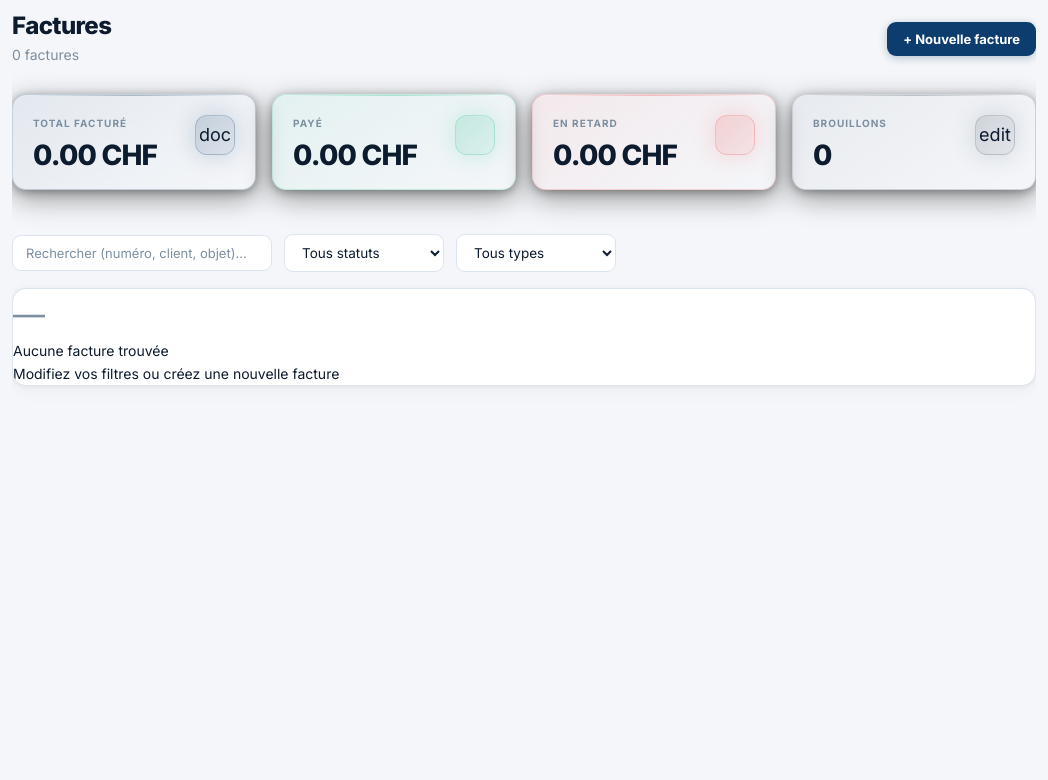
Test: Factures — formulaire : ouverture › bouton "← Annuler" revient à la liste
This screenshot has width=1048, height=780.
Step 1. Click the button "+ Nouvelle facture" → (962, 39), box left=887, top=22, right=1036, bottom=56
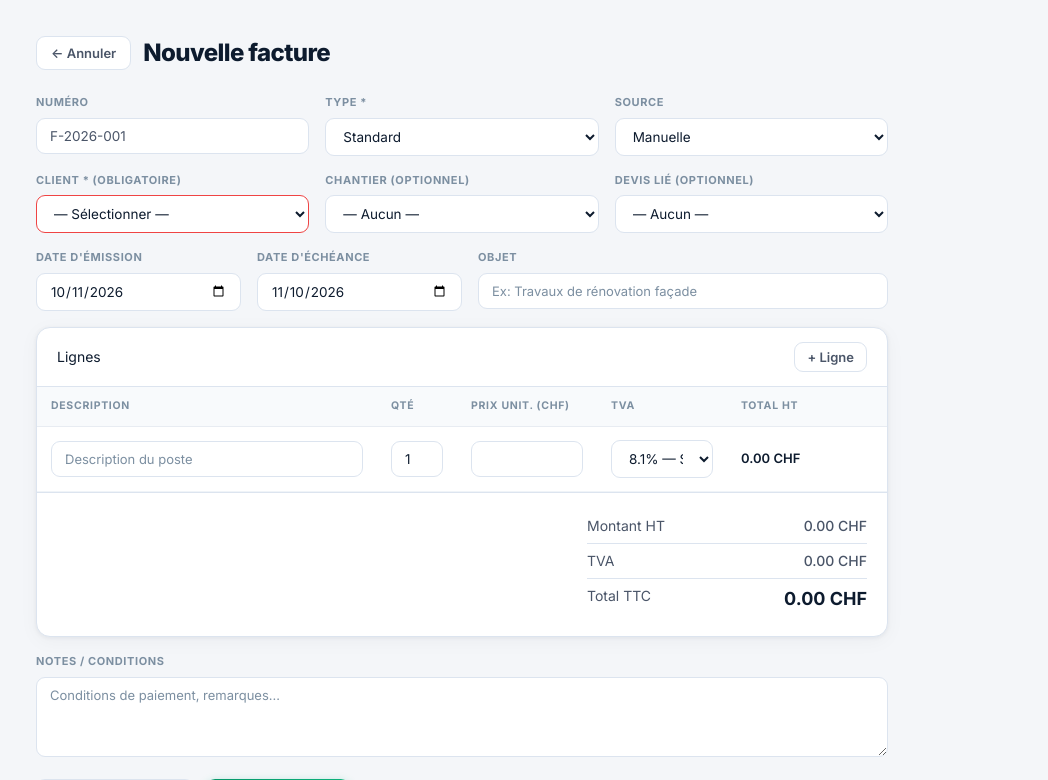
Step 2. Click the button "← Annuler" → (84, 53), box left=36, top=36, right=131, bottom=70
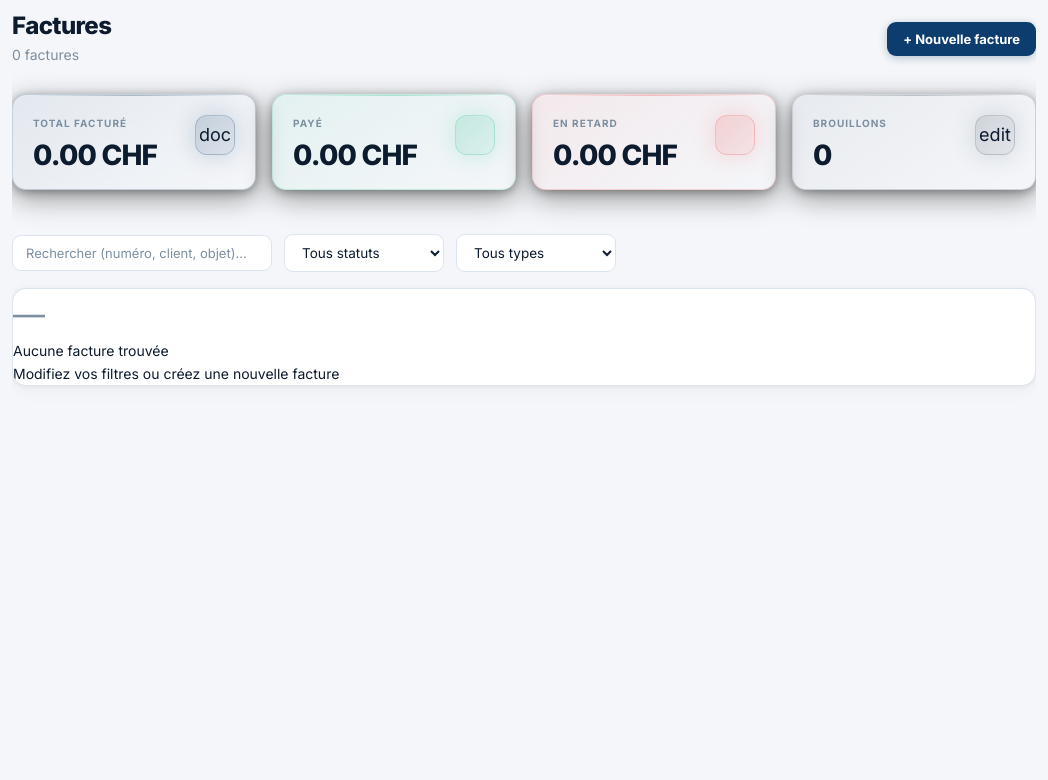
Now the text "Aucune facture trouvée" is shown, box left=13, top=342, right=169, bottom=359
